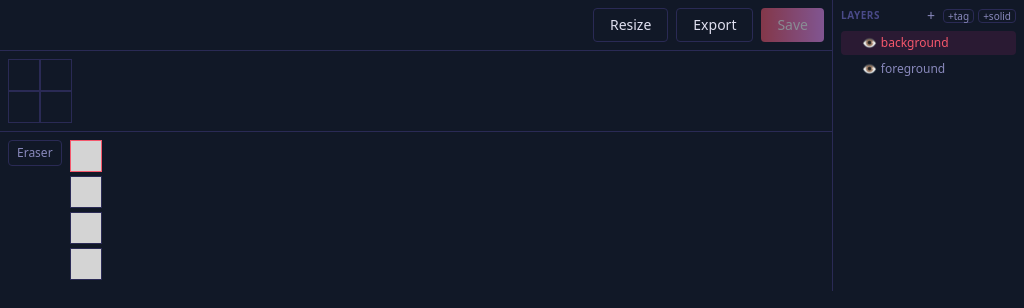
TileMapEditor › selecting a hidden layer makes it active and un-hides it
Check: the text "background" is shown, box [881,34,949,51]
Click the button named "Hide layer foreground". click: (869, 69)
box: [862,63,877,75]
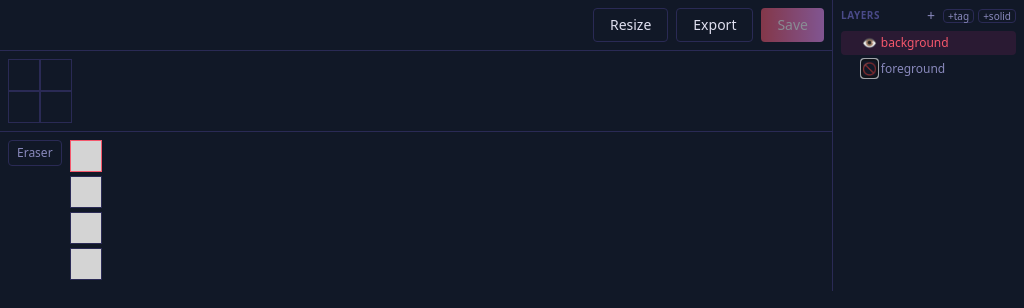
Click the text "foreground". click: (913, 68)
box: [881,60,945,77]
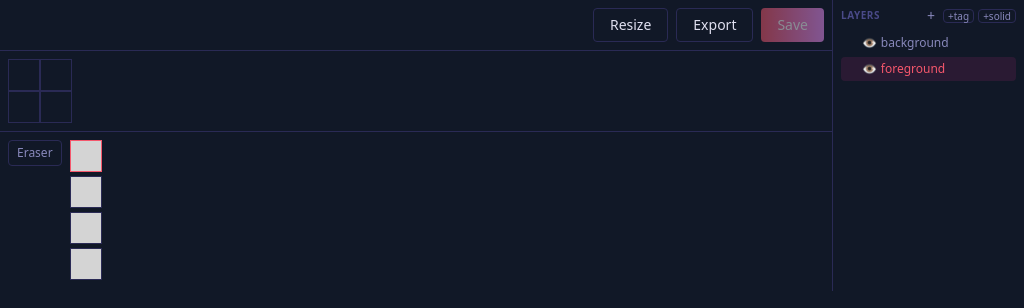
Check: the button named "Hide layer foreground" is shown, box [862,63,877,75]
